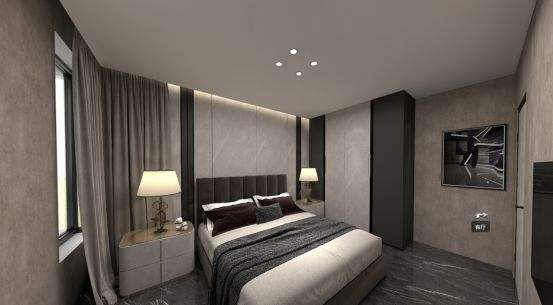床: (182, 204, 389, 301)
枕头: (204, 195, 307, 236)
灯: (135, 170, 179, 235), (297, 168, 320, 203), (273, 61, 286, 71), (310, 60, 322, 70), (294, 71, 307, 80), (288, 48, 301, 57)
